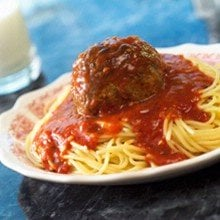soup: (16, 36, 220, 177)
